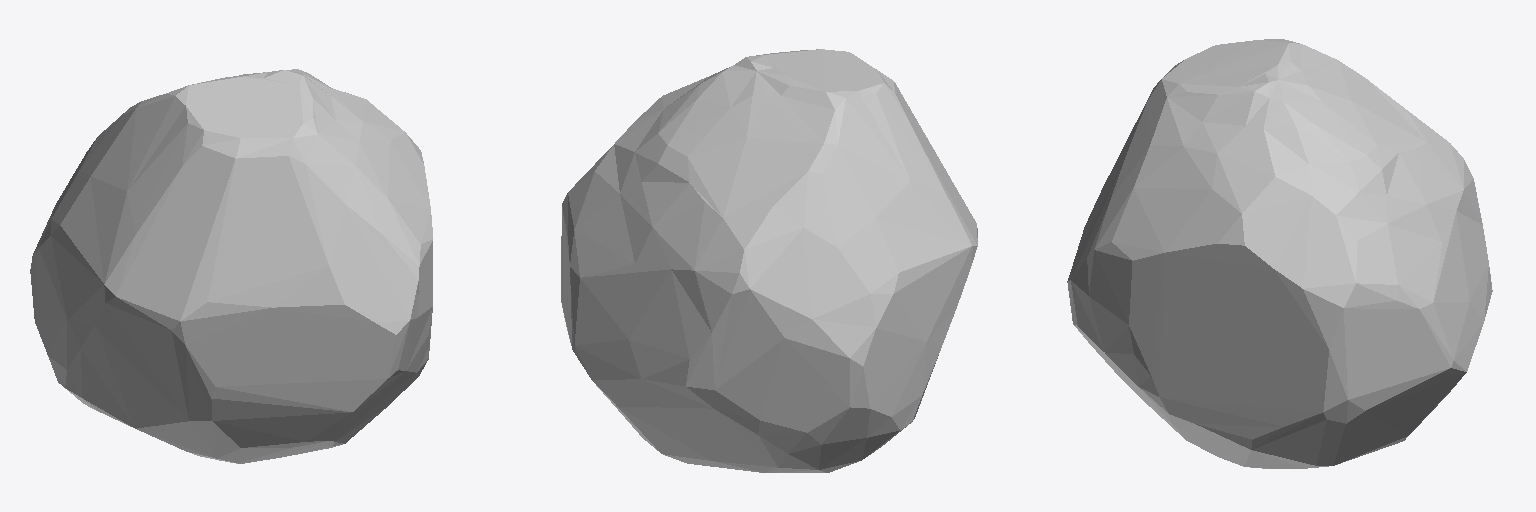
File: rock4.obj
The picture shows the model from 3 angles: view 1: azimuth 30°, elevation 25°; view 2: azimuth 150°, elevation 25°; view 3: azimuth 270°, elevation 25°; orthographic projection.
Visible parts, largest first — view 1: Stone_9_Sphere.009; view 2: Stone_9_Sphere.009; view 3: Stone_9_Sphere.009.
Part boxes in pixels (bbox=[...]): Stone_9_Sphere.009: bbox=[30, 69, 432, 463]; Stone_9_Sphere.009: bbox=[561, 49, 977, 472]; Stone_9_Sphere.009: bbox=[1067, 39, 1492, 468].
Bounding box in the file's own units: 3.37 × 3.34 × 3.48.